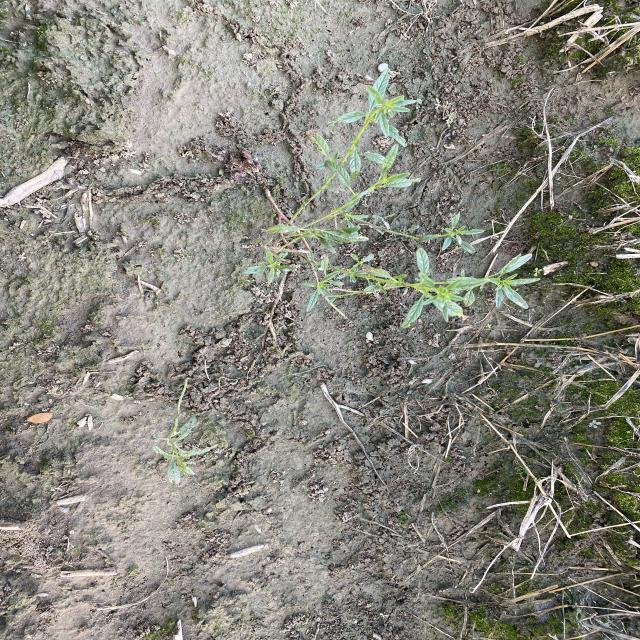Waterhemp: (241, 66, 544, 329), (146, 372, 222, 487)
